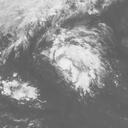cyclone: (51, 32, 107, 94)
